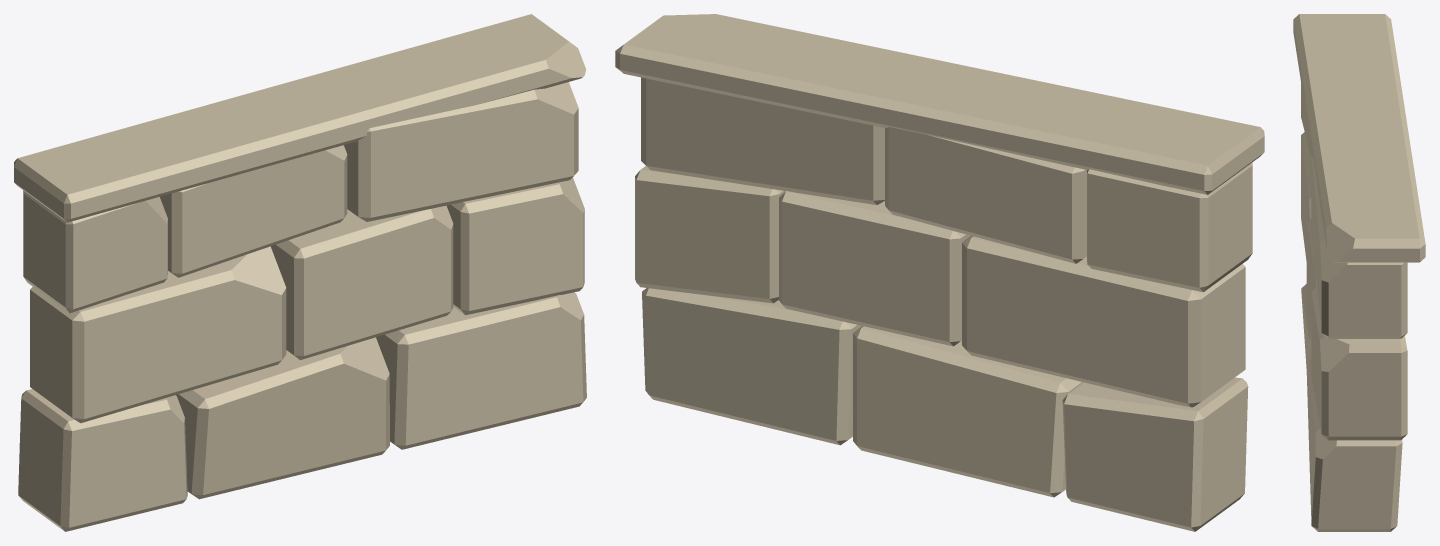
The model's file is Ruin_Wall_A_Detail_v1.glb.
3 renders of one model, left to right at view 1: azimuth 30°, elevation 25°; view 2: azimuth 150°, elevation 25°; view 3: azimuth 270°, elevation 25°, orthographic. The views are drawn at different scales.
Parts seen in each view (by area): view 1: Ruin_Wall_A_Detail_v1; view 2: Ruin_Wall_A_Detail_v1; view 3: Ruin_Wall_A_Detail_v1.
Boxes of the visible parts, bbox=[...] form: Ruin_Wall_A_Detail_v1: bbox=[14, 14, 586, 531]; Ruin_Wall_A_Detail_v1: bbox=[615, 14, 1264, 531]; Ruin_Wall_A_Detail_v1: bbox=[1293, 14, 1425, 531].
Size of the model in its own units: 8.2 by 4.99 by 2.
